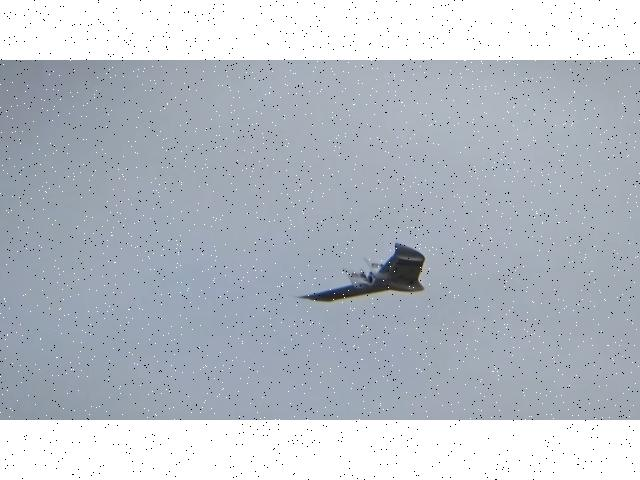Anti-Drone: (290, 240, 428, 302)
